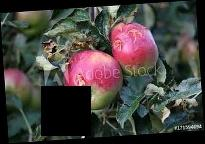rotten apple: (61, 49, 123, 111), (110, 19, 163, 74)
